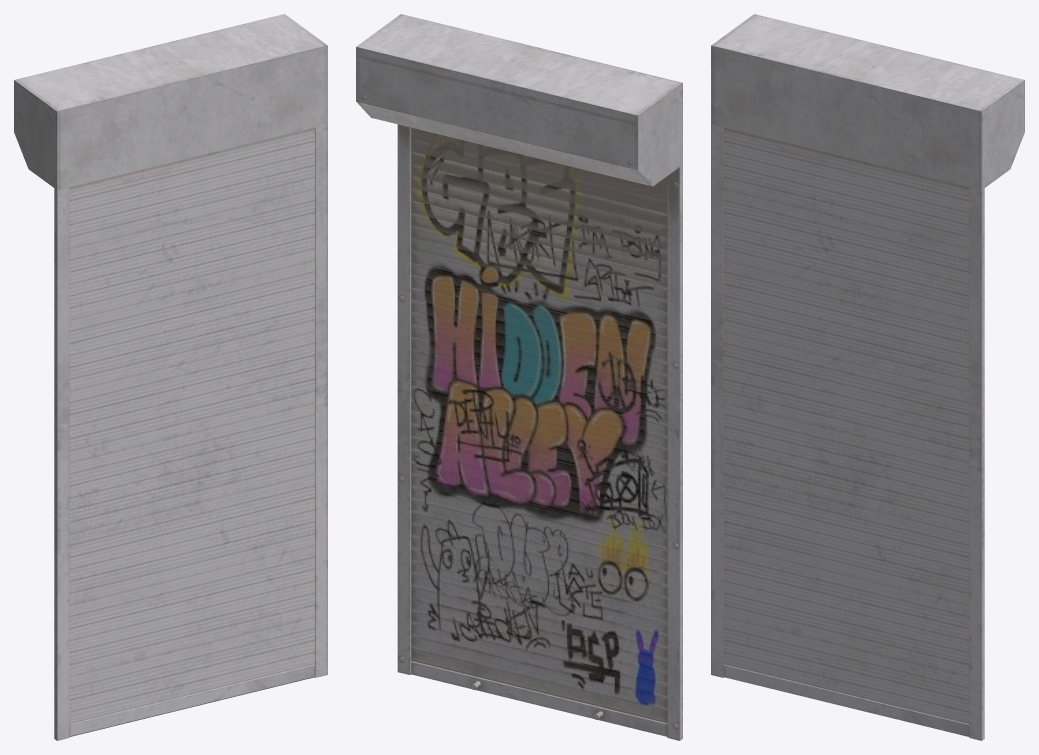
File: rollershutter_graffiti.glb
3 views of the same model, side by side, from view 1: azimuth 30°, elevation 25°; view 2: azimuth 150°, elevation 25°; view 3: azimuth 330°, elevation 25° (orthographic). The views are drawn at different scales.
Parts seen in each view (by area): view 1: rollershutter_door_graffiti; view 2: rollershutter_door_graffiti; view 3: rollershutter_door_graffiti.
Boxes of the visible parts, x1,y1,x2,y2 form: rollershutter_door_graffiti: (14, 14, 327, 740); rollershutter_door_graffiti: (356, 14, 682, 740); rollershutter_door_graffiti: (711, 14, 1024, 740).
Size of the model in its own units: 1.08 by 2.4 by 0.3001.
1 material, 1 textured.
